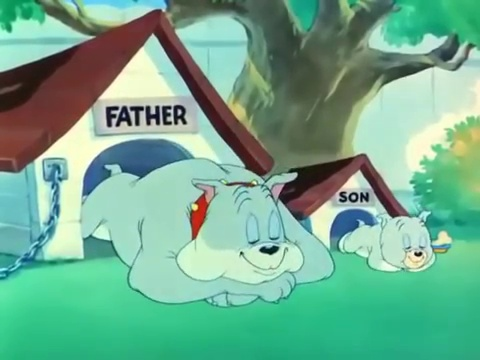spike: (175, 169, 307, 284)
